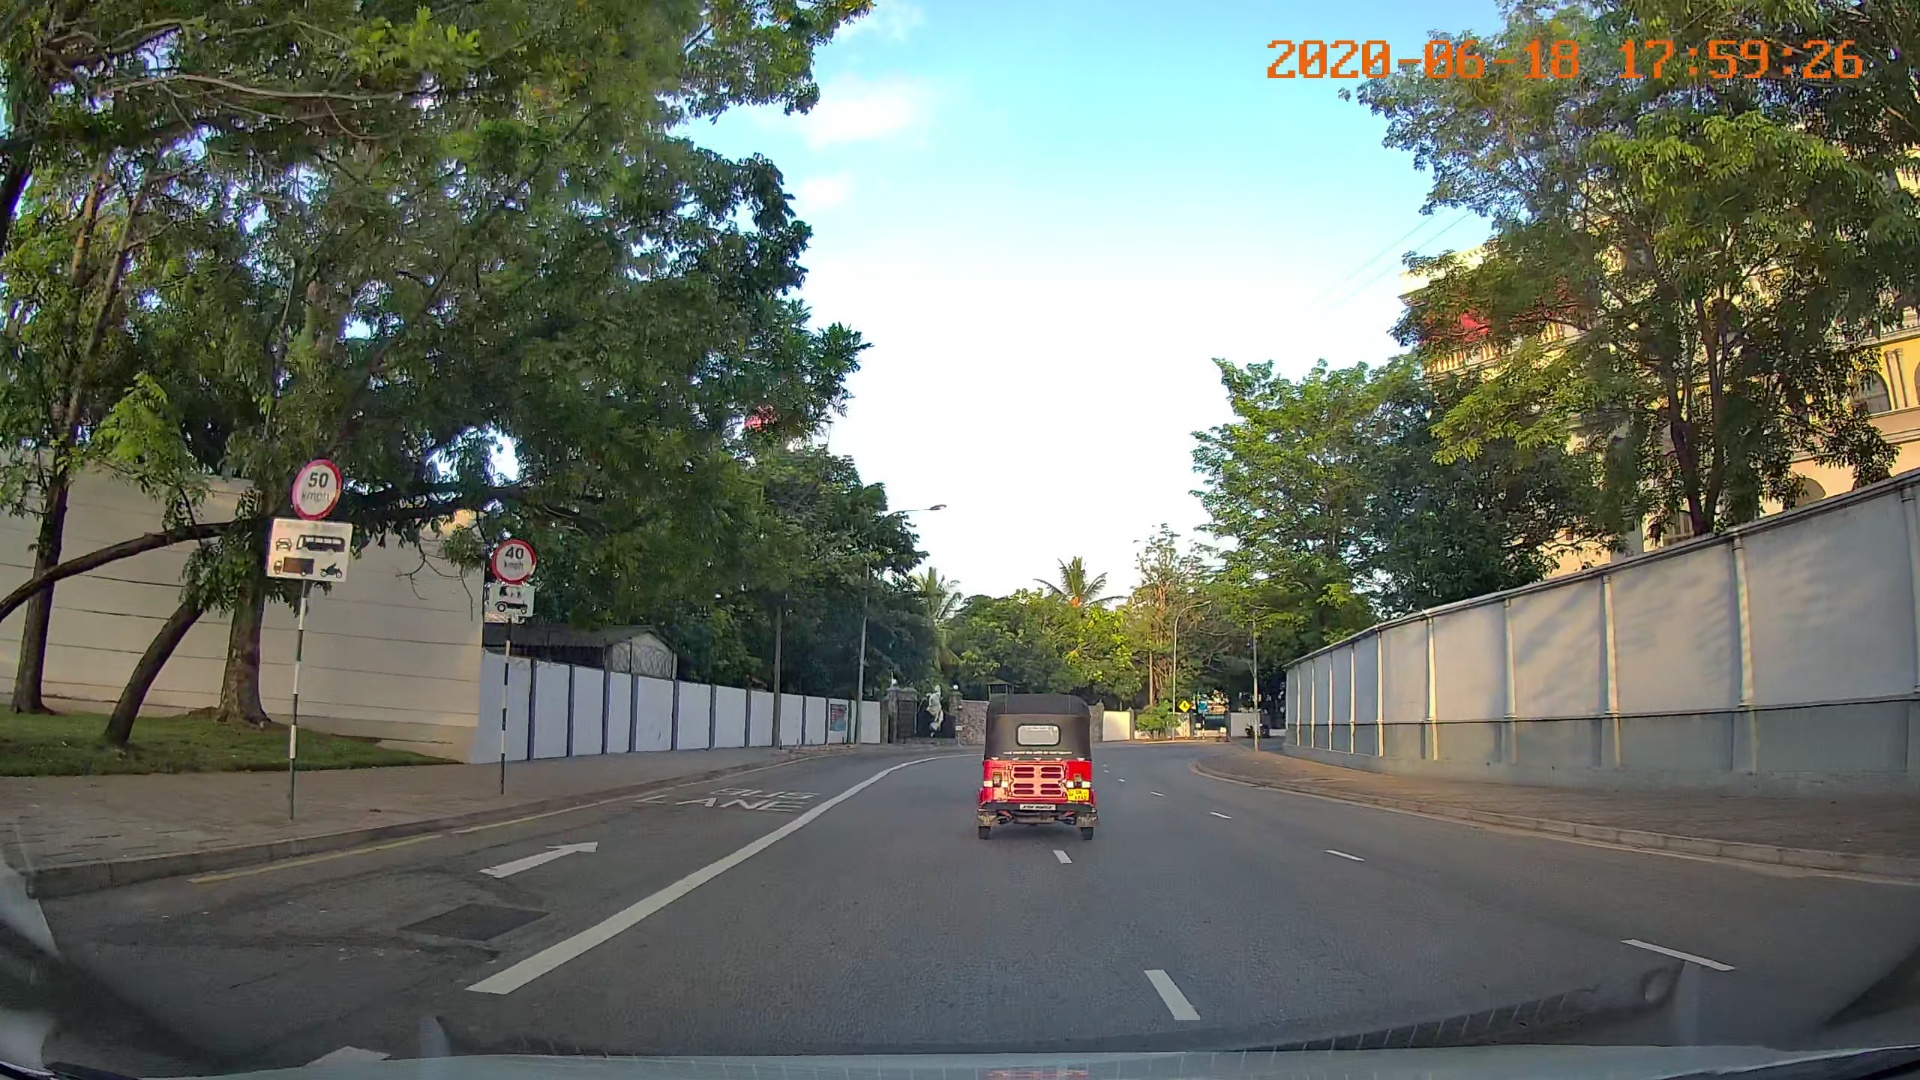arrow: (473, 837, 618, 895)
bus lane: (630, 779, 825, 822)
